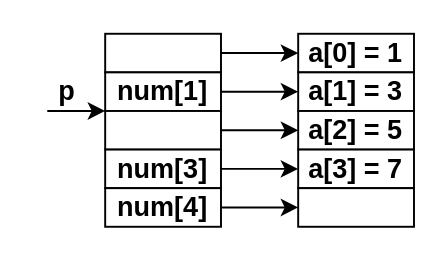
The diagram is 448 pixels wide and 261 high, and some of its shapes have lost their labels. Here are the shapes that lost their labels. From the top down, the box of each, then its label:
(103, 32, 221, 72): num[0]
(103, 109, 221, 150): num [2]
(296, 186, 414, 227): a[4] = 9
